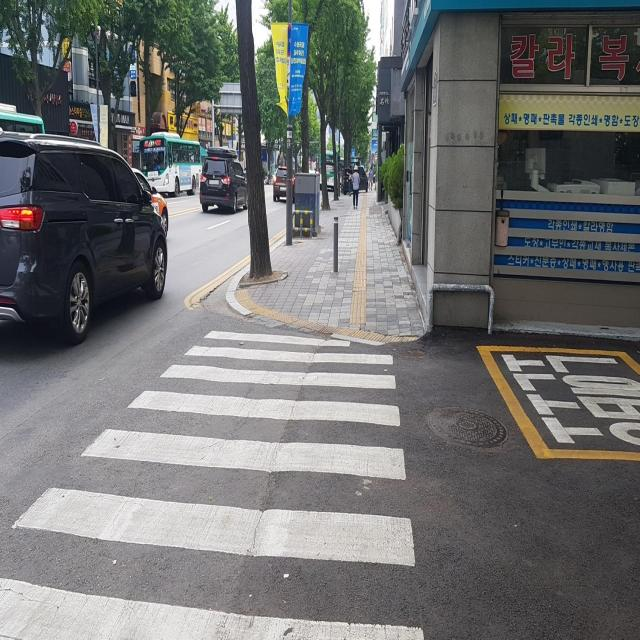횡단보도: (0, 328, 424, 639)
